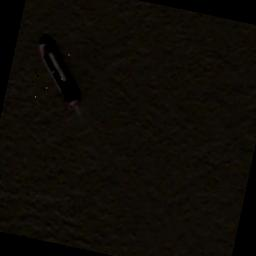boat: (26, 36, 90, 106)
